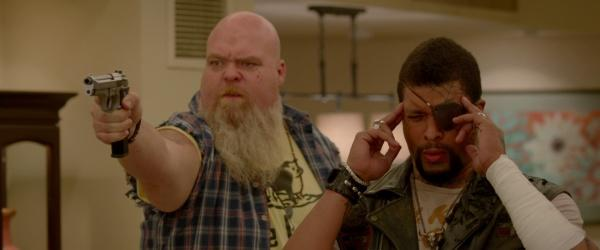Gun: (83, 70, 131, 158)
